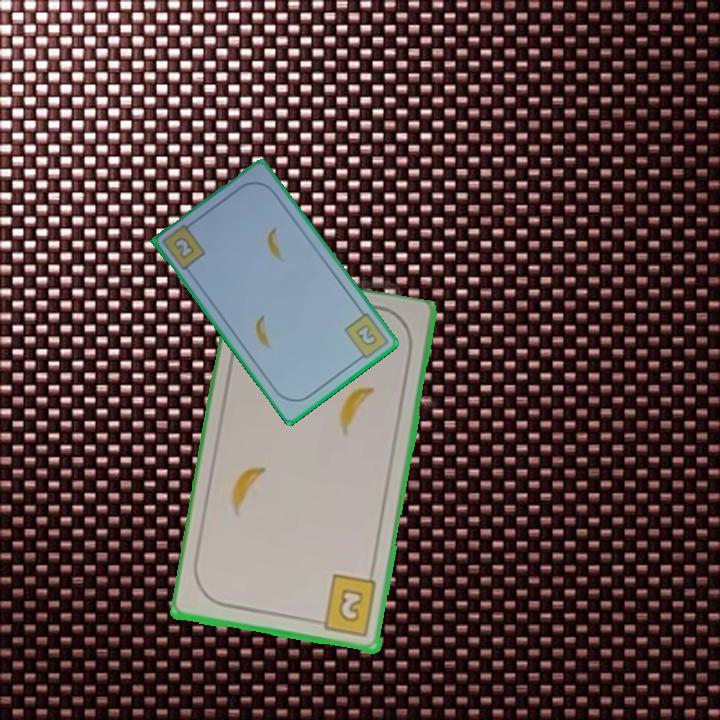2b: (311, 572, 380, 640), (341, 309, 391, 365), (170, 233, 198, 262)
